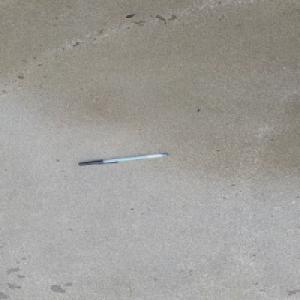Pen: (77, 152, 169, 166)
